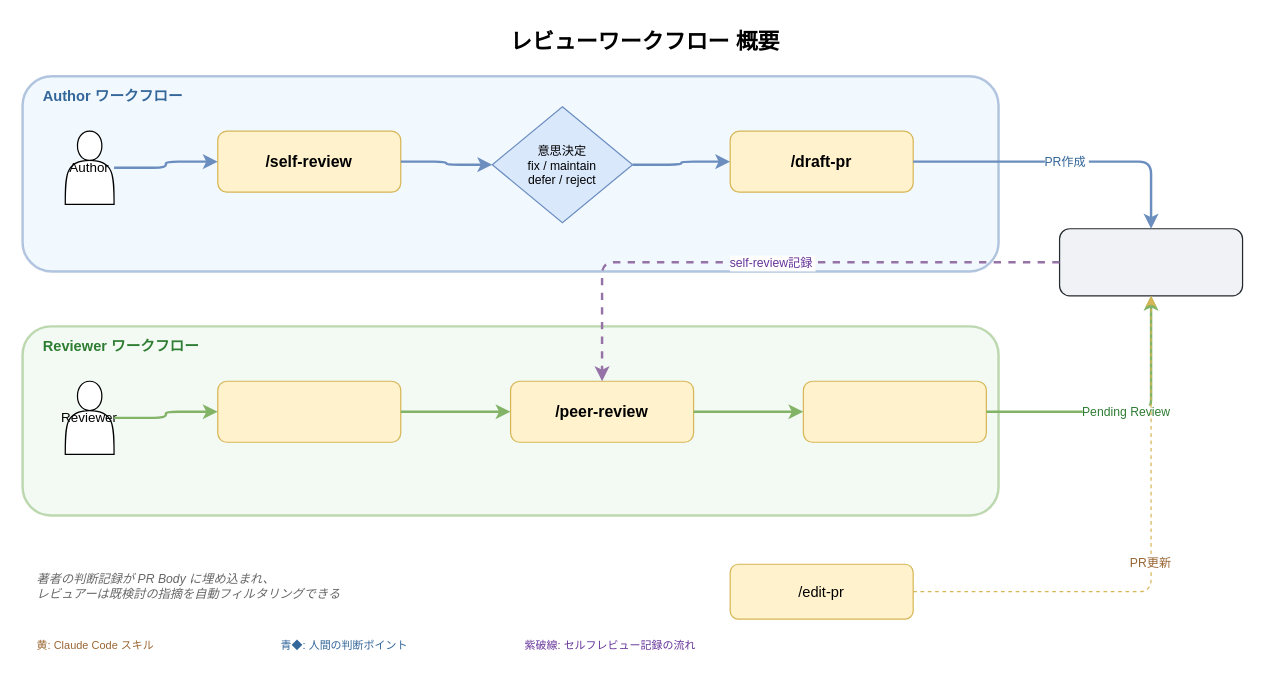
Image size: 1264x676. Some labels were removed from this diagram. Here are the shapes that lost their labels. From the top down, the centre of each, then its label:
point (1150, 262): GitHub PR
point (309, 411): /diff-navigator
point (894, 411): /post-review
